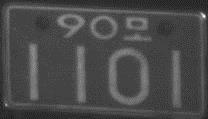0: (107, 47, 151, 107), (89, 14, 118, 39)
1: (65, 44, 97, 104), (160, 49, 191, 108), (19, 42, 49, 100)
9: (56, 12, 86, 39)
모: (122, 15, 152, 41)
